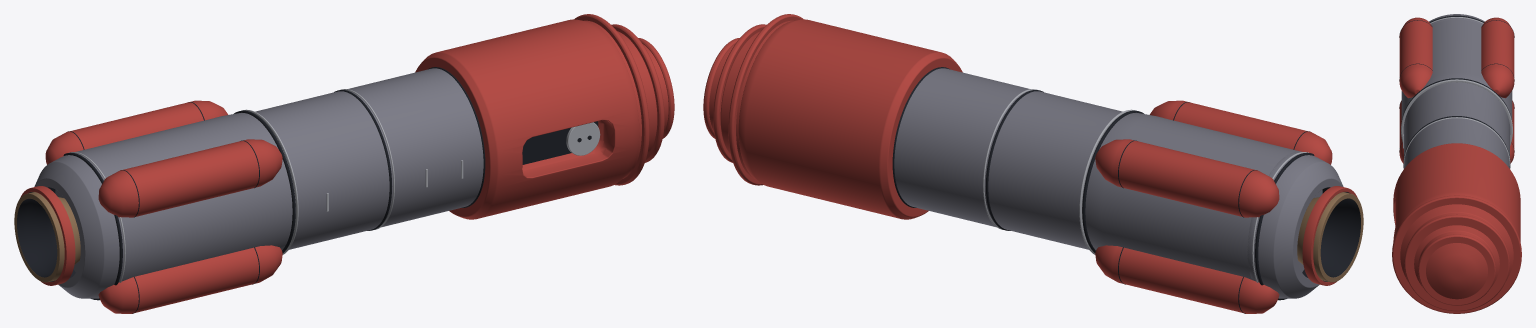
The picture shows the model from 3 angles, left to right: view 1: azimuth 30°, elevation 25°; view 2: azimuth 150°, elevation 25°; view 3: azimuth 270°, elevation 25°; orthographic projection. The views are drawn at different scales.
Visible parts, largest first — view 1: TI089 / Segmented pressure body, TI089 / Red warhead jacket, TI089 / Red tail stabilizer pod.002, TI089 / Hollow aft pressure skirt, TI089 / Red tail stabilizer pod.003, TI089 / Hollow propulsion bell, TI089 / Red tail stabilizer pod.001, TI089 / Area layered rounded nose, TI089 / Area stepped nose retaining rim, TI089 / Nozzle red retaining collar, TI089 / Area stepped nose retaining rim.001, TI089 / Instrument channel back wall (+6 smaller); view 2: TI089 / Segmented pressure body, TI089 / Red warhead jacket, TI089 / Red tail stabilizer pod.001, TI089 / Hollow aft pressure skirt, TI089 / Red tail stabilizer pod, TI089 / Hollow propulsion bell, TI089 / Red tail stabilizer pod.002, TI089 / Area layered rounded nose, TI089 / Area stepped nose retaining rim, TI089 / Nozzle red retaining collar, TI089 / Area stepped nose retaining rim.001, TI089 / Area stepped nose retaining rim.002 (+4 smaller); view 3: TI089 / Segmented pressure body, TI089 / Red warhead jacket, TI089 / Area layered rounded nose, TI089 / Area stepped nose retaining rim, TI089 / Area stepped nose retaining rim.001, TI089 / Red tail stabilizer pod.001, TI089 / Red tail stabilizer pod.002, TI089 / Area stepped nose retaining rim.002, TI089 / Joint machined lip.001, TI089 / Joint machined lip.002, TI089 / Hollow aft pressure skirt, TI089 / Pressure casing circumferential joint.001 (+3 smaller).
Part boxes in pixels (left/top/right/bottom): TI089 / Segmented pressure body: left=55, top=68, right=483, bottom=281; TI089 / Red warhead jacket: left=415, top=19, right=639, bottom=219; TI089 / Red tail stabilizer pod.002: left=98, top=139, right=282, bottom=217; TI089 / Hollow aft pressure skirt: left=34, top=151, right=130, bottom=298; TI089 / Red tail stabilizer pod.003: left=98, top=245, right=282, bottom=313; TI089 / Hollow propulsion bell: left=14, top=192, right=80, bottom=282; TI089 / Red tail stabilizer pod.001: left=45, top=100, right=228, bottom=164; TI089 / Area layered rounded nose: left=584, top=20, right=668, bottom=178; TI089 / Area stepped nose retaining rim: left=574, top=14, right=649, bottom=185; TI089 / Nozzle red retaining collar: left=20, top=186, right=75, bottom=285; TI089 / Area stepped nose retaining rim.001: left=611, top=24, right=664, bottom=162; TI089 / Instrument channel back wall: left=522, top=121, right=598, bottom=164; TI089 / Segmented pressure body: left=894, top=68, right=1322, bottom=281; TI089 / Red warhead jacket: left=738, top=19, right=962, bottom=219; TI089 / Red tail stabilizer pod.001: left=1095, top=139, right=1279, bottom=217; TI089 / Hollow aft pressure skirt: left=1247, top=151, right=1343, bottom=298; TI089 / Red tail stabilizer pod: left=1095, top=245, right=1279, bottom=313; TI089 / Hollow propulsion bell: left=1297, top=192, right=1363, bottom=282; TI089 / Red tail stabilizer pod.002: left=1149, top=100, right=1332, bottom=164; TI089 / Area layered rounded nose: left=709, top=20, right=793, bottom=178; TI089 / Area stepped nose retaining rim: left=728, top=14, right=803, bottom=185; TI089 / Nozzle red retaining collar: left=1302, top=186, right=1357, bottom=285; TI089 / Area stepped nose retaining rim.001: left=713, top=24, right=766, bottom=162; TI089 / Area stepped nose retaining rim.002: left=703, top=38, right=739, bottom=138; TI089 / Segmented pressure body: left=1401, top=18, right=1512, bottom=168; TI089 / Red warhead jacket: left=1393, top=143, right=1520, bottom=241; TI089 / Area layered rounded nose: left=1400, top=204, right=1513, bottom=299; TI089 / Area stepped nose retaining rim: left=1392, top=195, right=1521, bottom=313; TI089 / Area stepped nose retaining rim.001: left=1404, top=214, right=1509, bottom=311; TI089 / Red tail stabilizer pod.001: left=1481, top=17, right=1514, bottom=98; TI089 / Red tail stabilizer pod.002: left=1399, top=17, right=1432, bottom=98; TI089 / Area stepped nose retaining rim.002: left=1418, top=234, right=1495, bottom=305; TI089 / Joint machined lip.001: left=1401, top=79, right=1512, bottom=145; TI089 / Joint machined lip.002: left=1403, top=117, right=1510, bottom=168; TI089 / Hollow aft pressure skirt: left=1429, top=14, right=1484, bottom=24; TI089 / Pressure casing circumferential joint.001: left=1401, top=78, right=1512, bottom=123.
Size of the model in its own units: 6.15 by 1.5 by 1.5.
